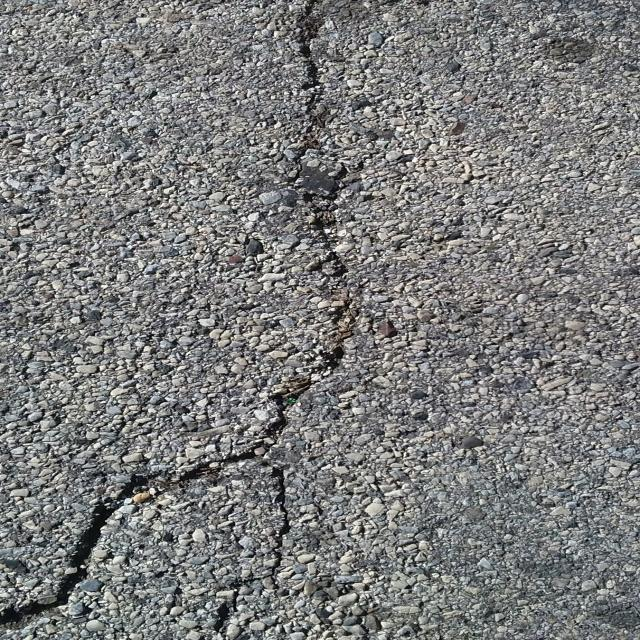Crack: (0, 298, 361, 640), (290, 0, 350, 281)
